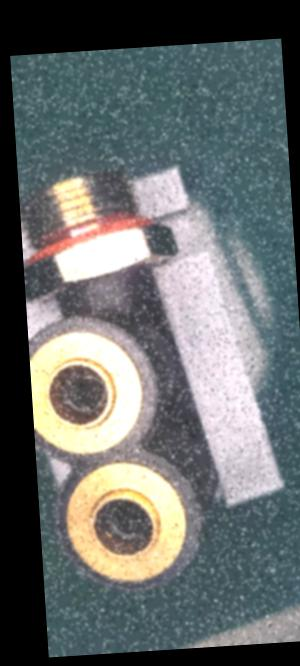bump: (190, 511, 212, 552)
off-centered: (55, 369, 112, 416)
white mark: (86, 281, 101, 299)
